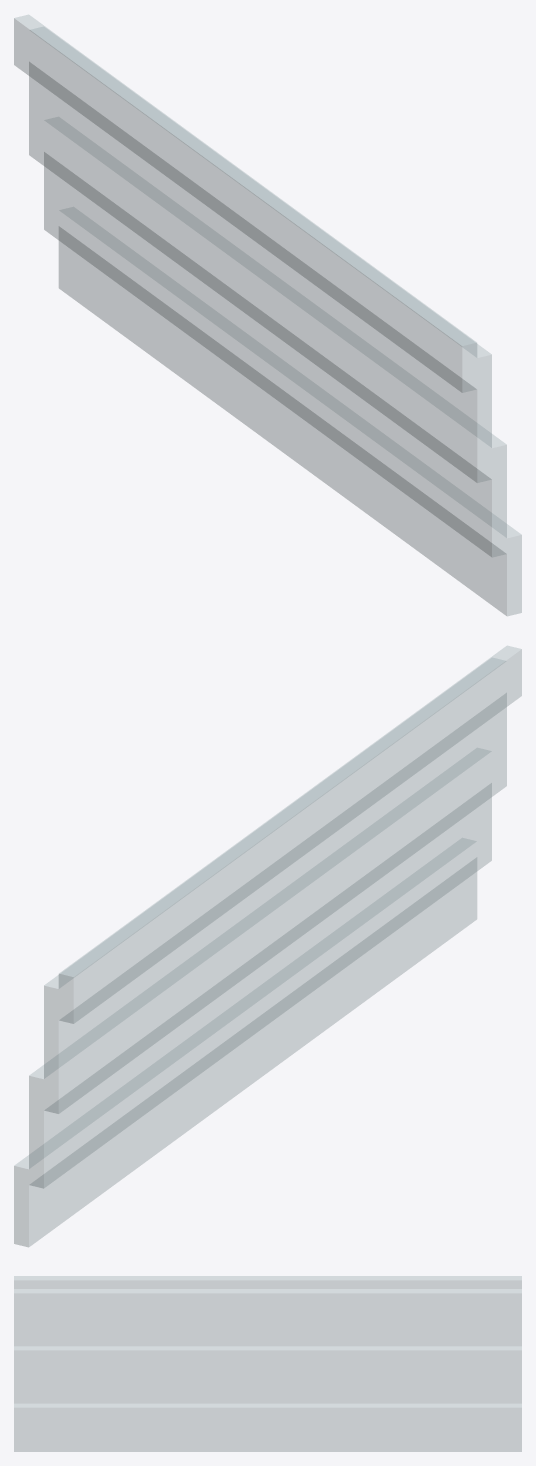
Rendered from caravan_front_window.glb.
3 renders of one model, top to bottom at view 1: azimuth 30°, elevation 25°; view 2: azimuth 150°, elevation 25°; view 3: azimuth 270°, elevation 25°, orthographic. The views are drawn at different scales.
Visible parts, largest first — view 1: body:compound; view 2: body:compound; view 3: body:compound.
Boxes of the visible parts, left/top/right/bottom form: body:compound: left=14, top=14, right=521, bottom=616; body:compound: left=14, top=645, right=521, bottom=1247; body:compound: left=14, top=1276, right=521, bottom=1451.
Bounding box in the file's own units: 0.125 × 0.5625 × 1.62.
